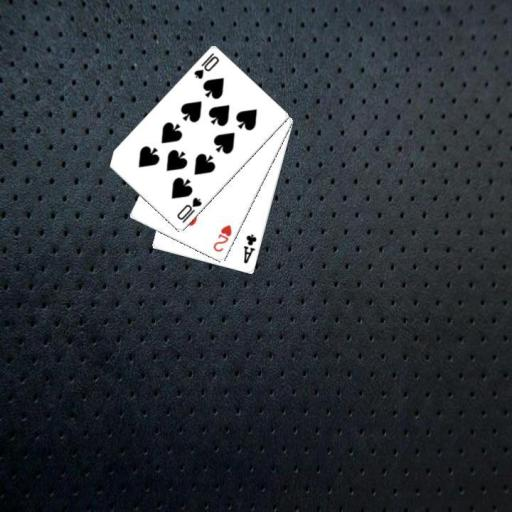10S: (174, 194, 204, 225), (191, 50, 221, 81)
2H: (210, 222, 233, 254)
AC: (240, 231, 258, 265)
